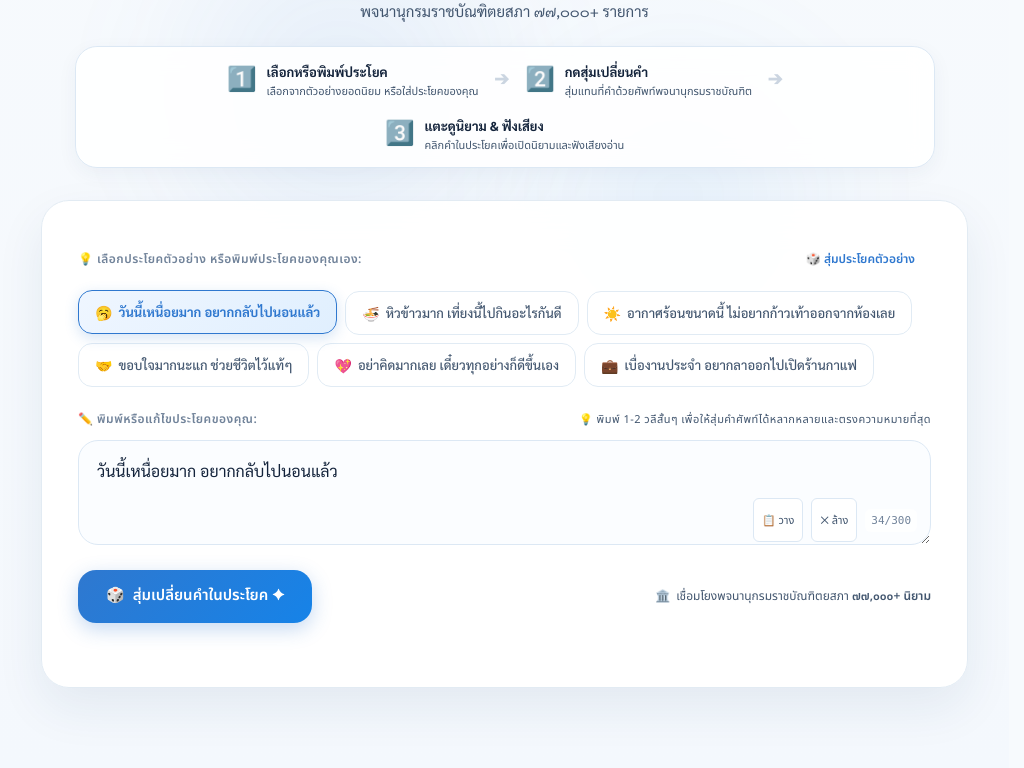
Scenario: Word Scrambler (สุ่มเปลี่ยนคำในประโยค) UI Component › randomly substitutes words in sentence and renders dictionary evidence
(page scrolled)
Click the text "สุ่มเปลี่ยนคำในประโยค ✦".
click(208, 596)  # box 133,583 -> 284,610
(page scrolled)
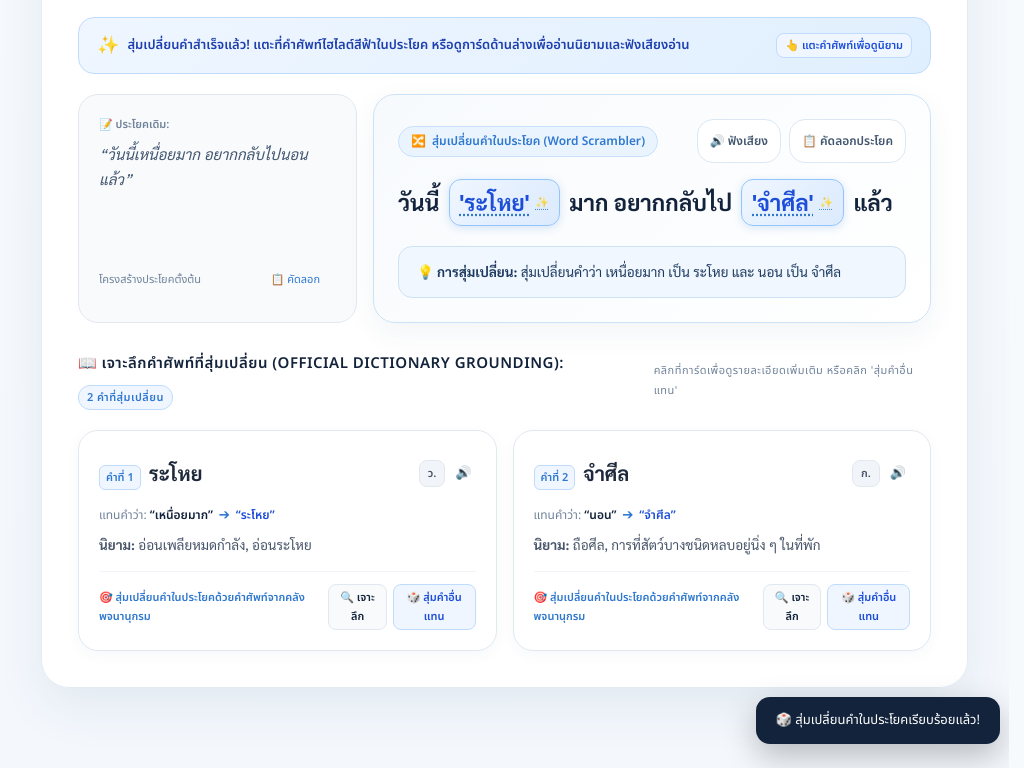
Expected: the text "'ระโหย'" is shown, 460,182 -> 529,222
Expected: the text "'จำศีล'" is shown, 752,182 -> 813,222
Expected: the text "อ่อนเพลียหมดกำลัง, อ่อนระโหย" is shown, 138,536 -> 312,553
